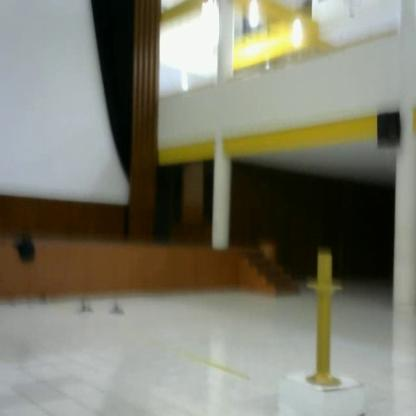pole: (305, 248, 348, 392)
